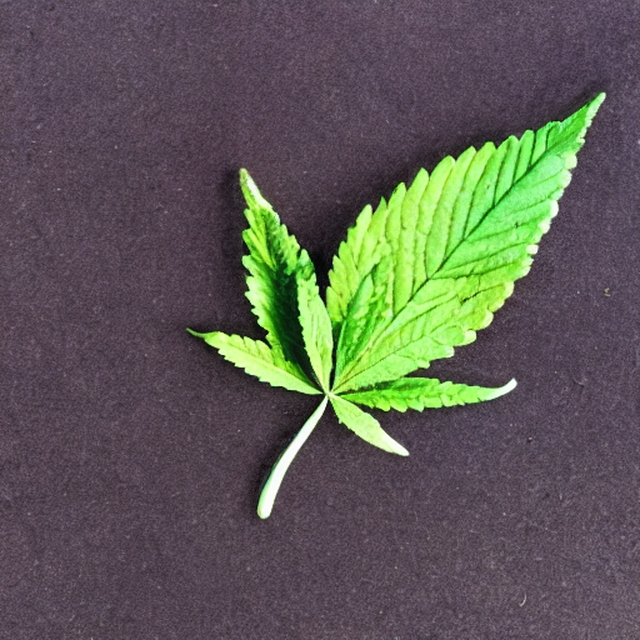Marijuana Leaf: (185, 89, 607, 519)
